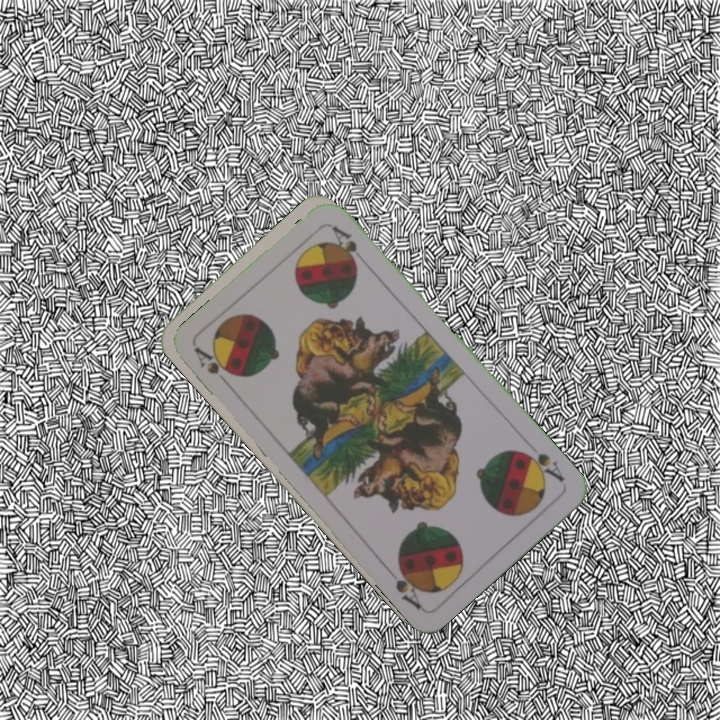SA: (191, 343, 235, 392), (515, 446, 568, 485)
